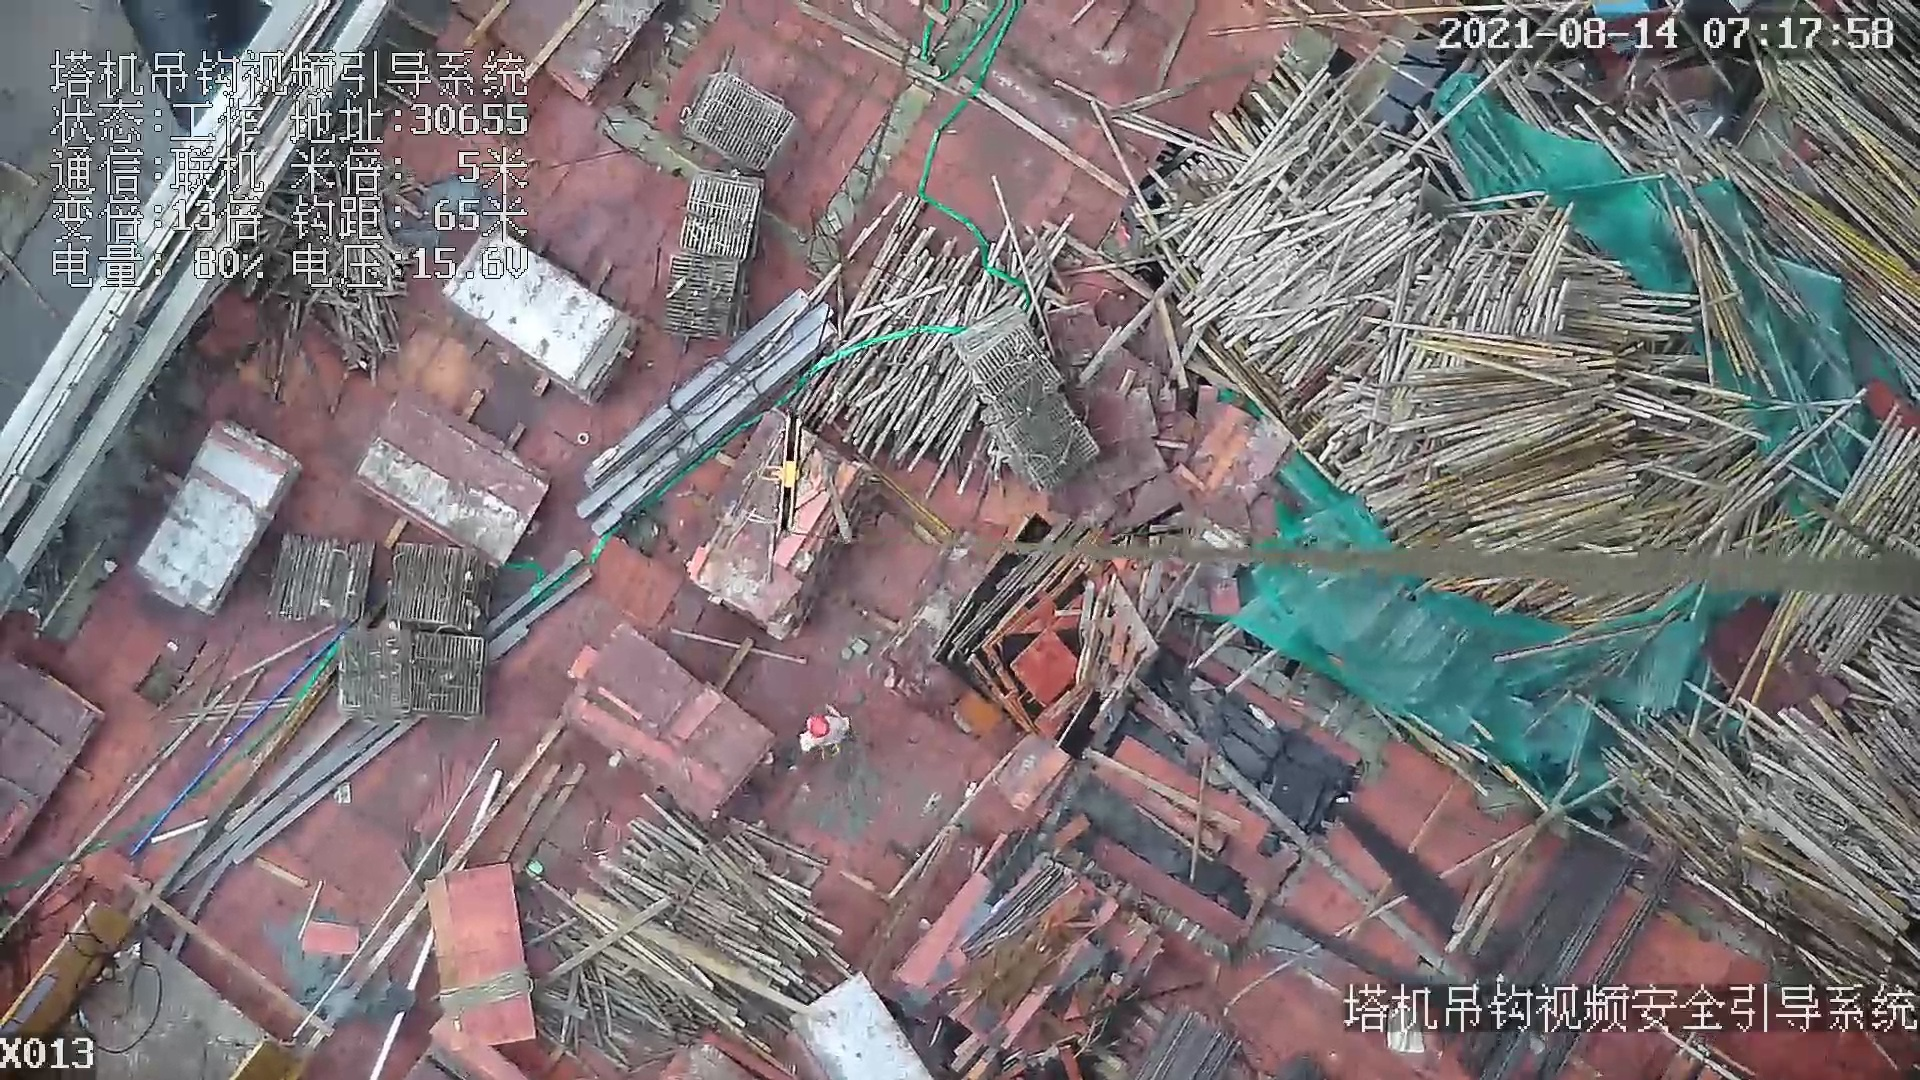helmet: (807, 713, 830, 737)
hook: (753, 405, 812, 545)
person: (787, 706, 858, 754)
